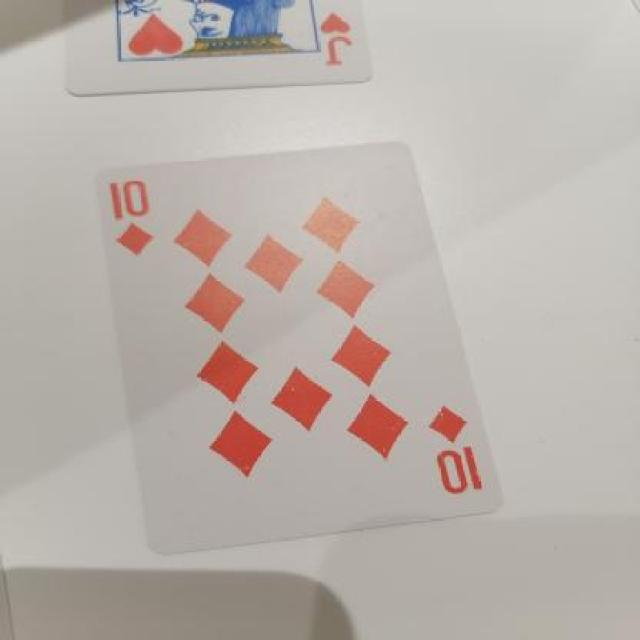10D: (414, 407, 506, 511), (97, 169, 185, 268)
